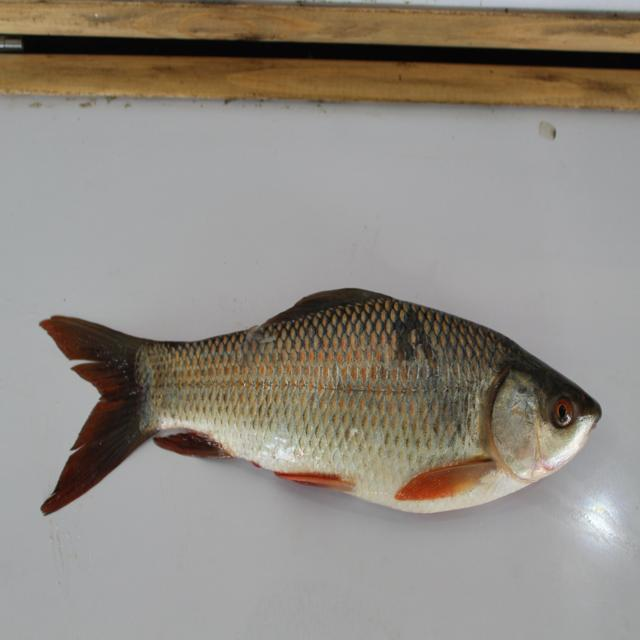Rohu: (32, 281, 611, 531)
